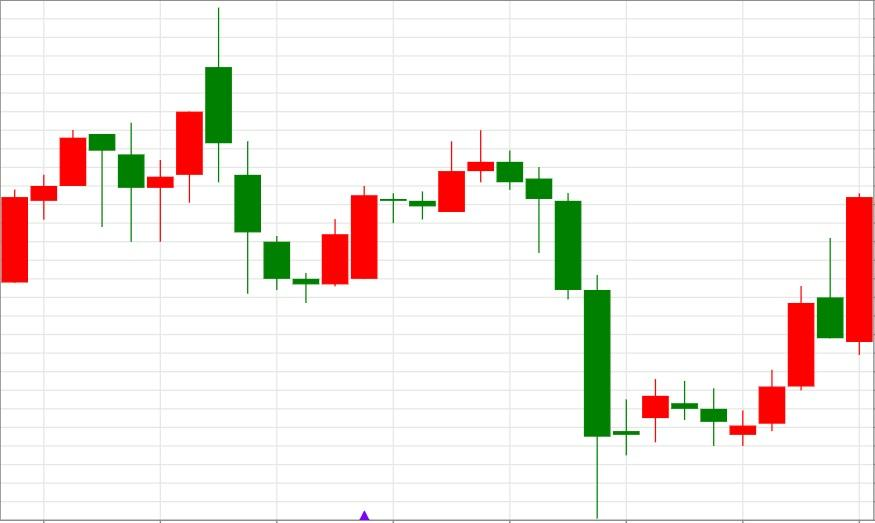three_black_crows_fall: (147, 7, 290, 294)
three_white_soldiers_rise: (467, 128, 816, 519)
